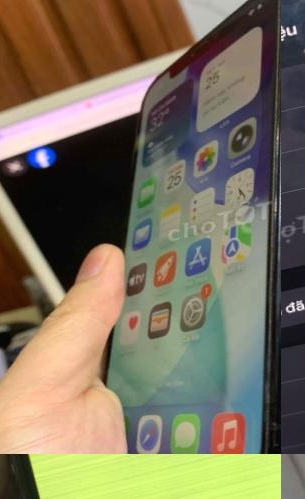scratch: (176, 82, 281, 452)
screen_defect: (53, 454, 281, 495)
